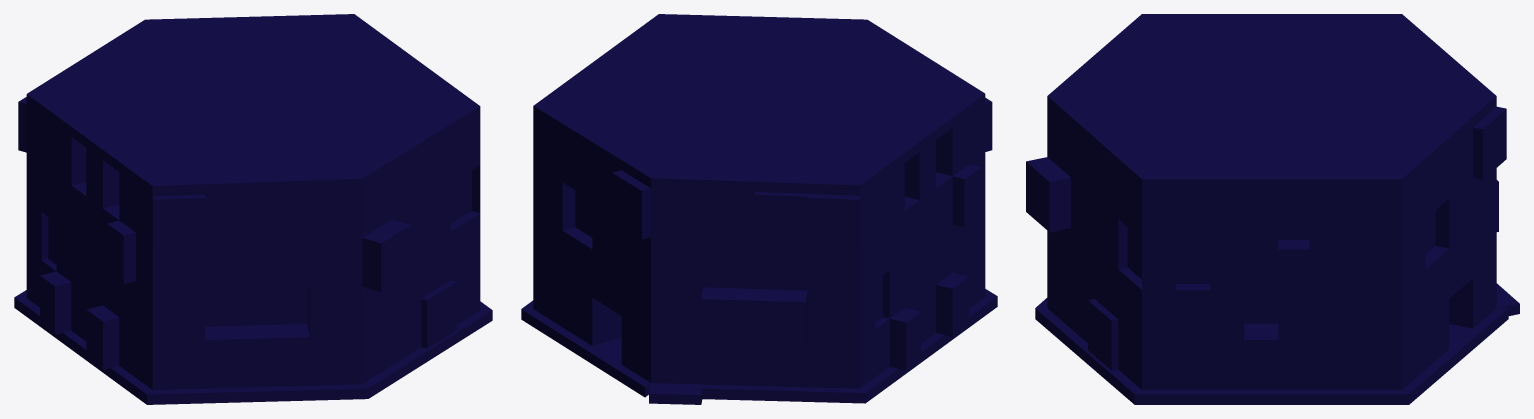
The model's file is tile_ville.gltf.
The picture shows the model from 3 angles, left to right: view 1: azimuth 30°, elevation 25°; view 2: azimuth 150°, elevation 25°; view 3: azimuth 270°, elevation 25°; orthographic projection. The views are drawn at different scales.
Visible parts, largest first — view 1: ville_1; view 2: ville_1; view 3: ville_1.
Part boxes in pixels (bbox=[...]): ville_1: bbox=[14, 14, 492, 404]; ville_1: bbox=[521, 14, 997, 404]; ville_1: bbox=[1026, 14, 1519, 404].
Bounding box in the file's own units: 1.77 × 1.01 × 2.02.
Materials: 1 (1 with a texture image).
